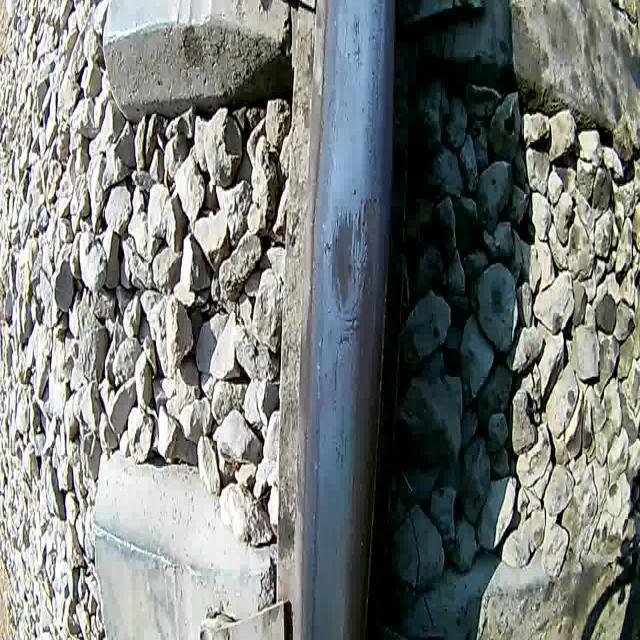Cracks: (332, 277, 370, 402), (357, 206, 369, 268)
Squats: (321, 197, 372, 323)
